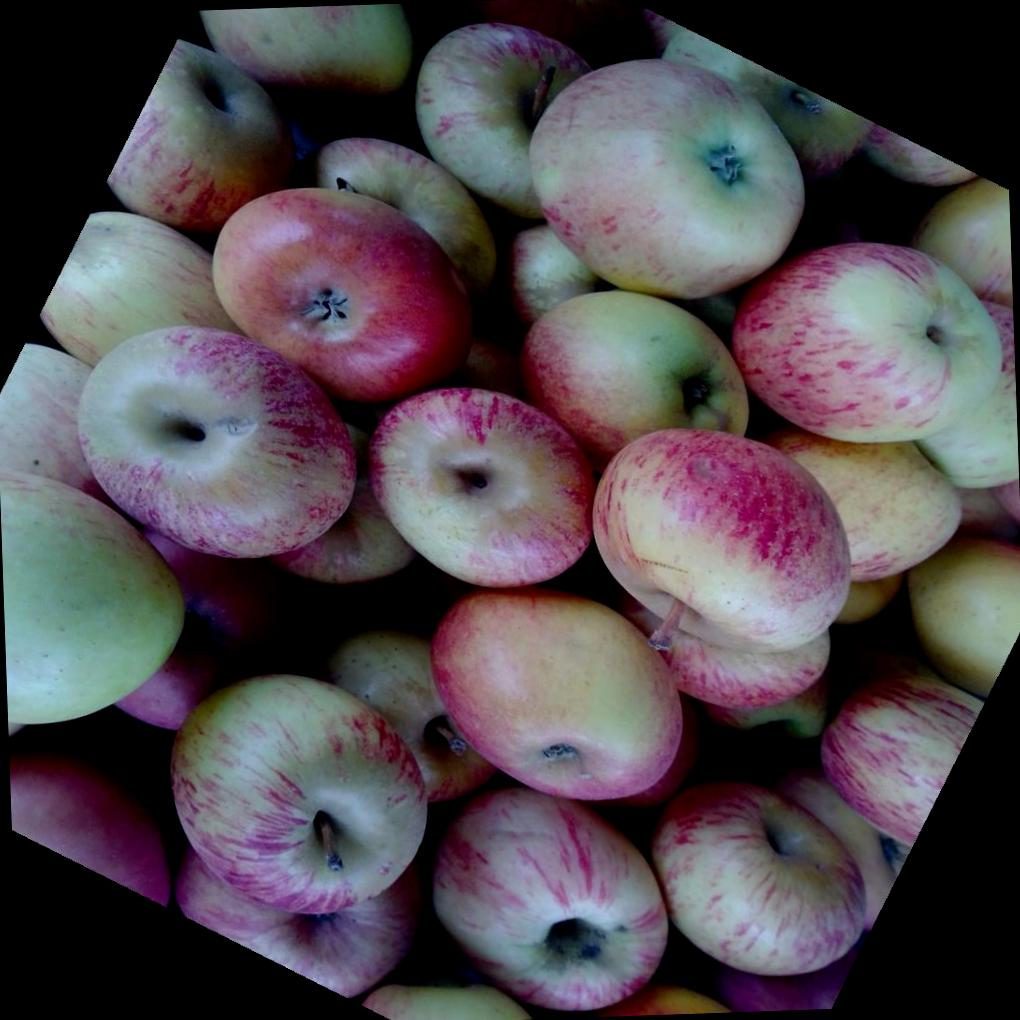FreshGuava: (0, 6, 1019, 1020)
